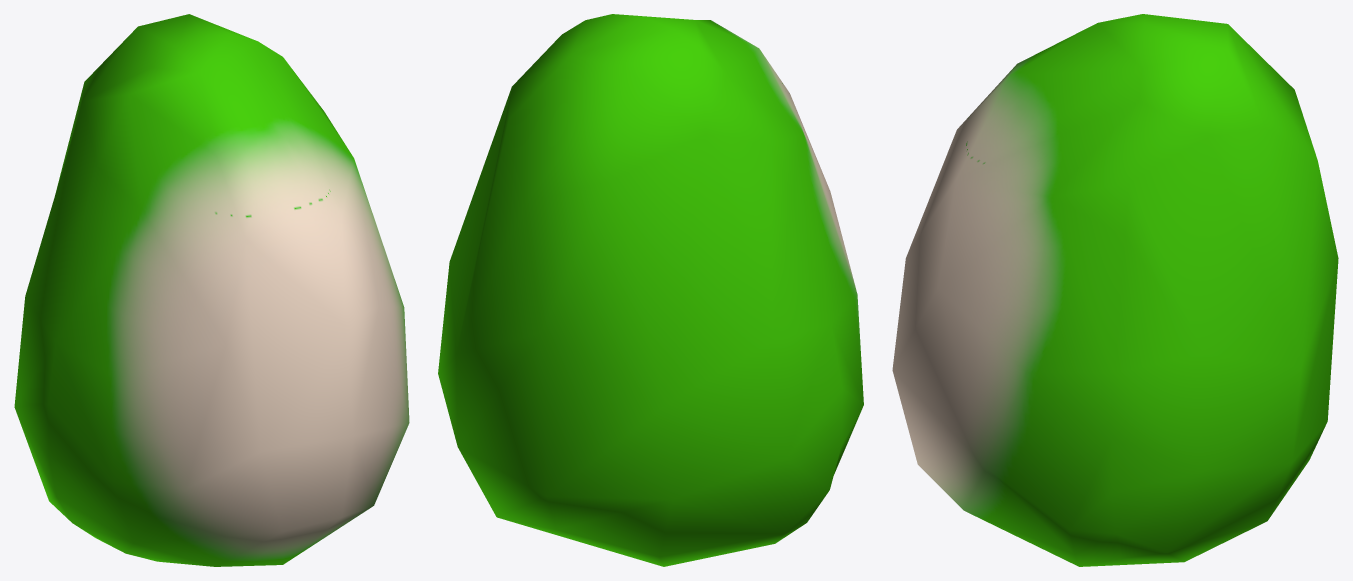
Rendered from Midorin_body.obj.
3 views of the same model, side by side, from view 1: azimuth 30°, elevation 25°; view 2: azimuth 150°, elevation 25°; view 3: azimuth 270°, elevation 25° (orthographic). The views are drawn at different scales.
Visible parts, largest first — view 1: GREEN_BODY; view 2: GREEN_BODY; view 3: GREEN_BODY.
Part boxes in pixels (x1,y1,x2,y2): GREEN_BODY: (14,14,409,566); GREEN_BODY: (438,14,863,566); GREEN_BODY: (892,14,1338,566).
Bounding box in the file's own units: 1.21 × 1.67 × 1.32.
Materials: 1 (1 with a texture image).
